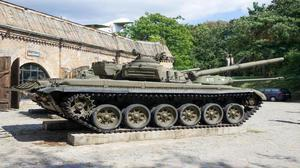t72: (22, 55, 286, 124)
